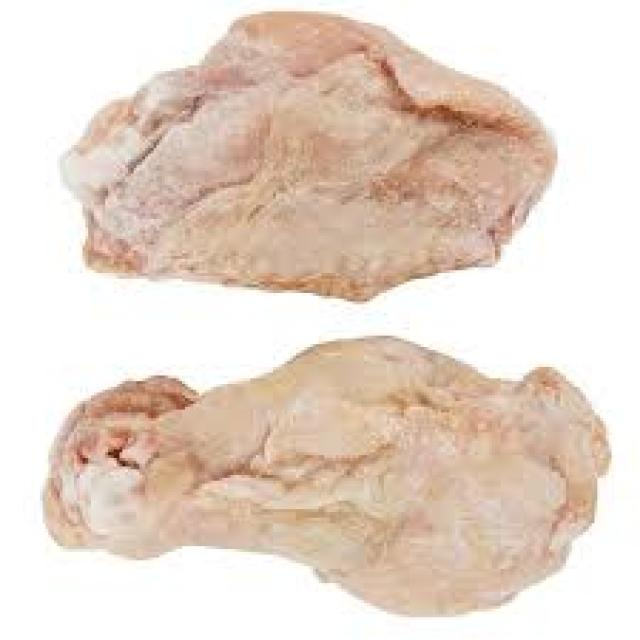Chicken: (35, 333, 616, 629), (55, 7, 561, 304)
